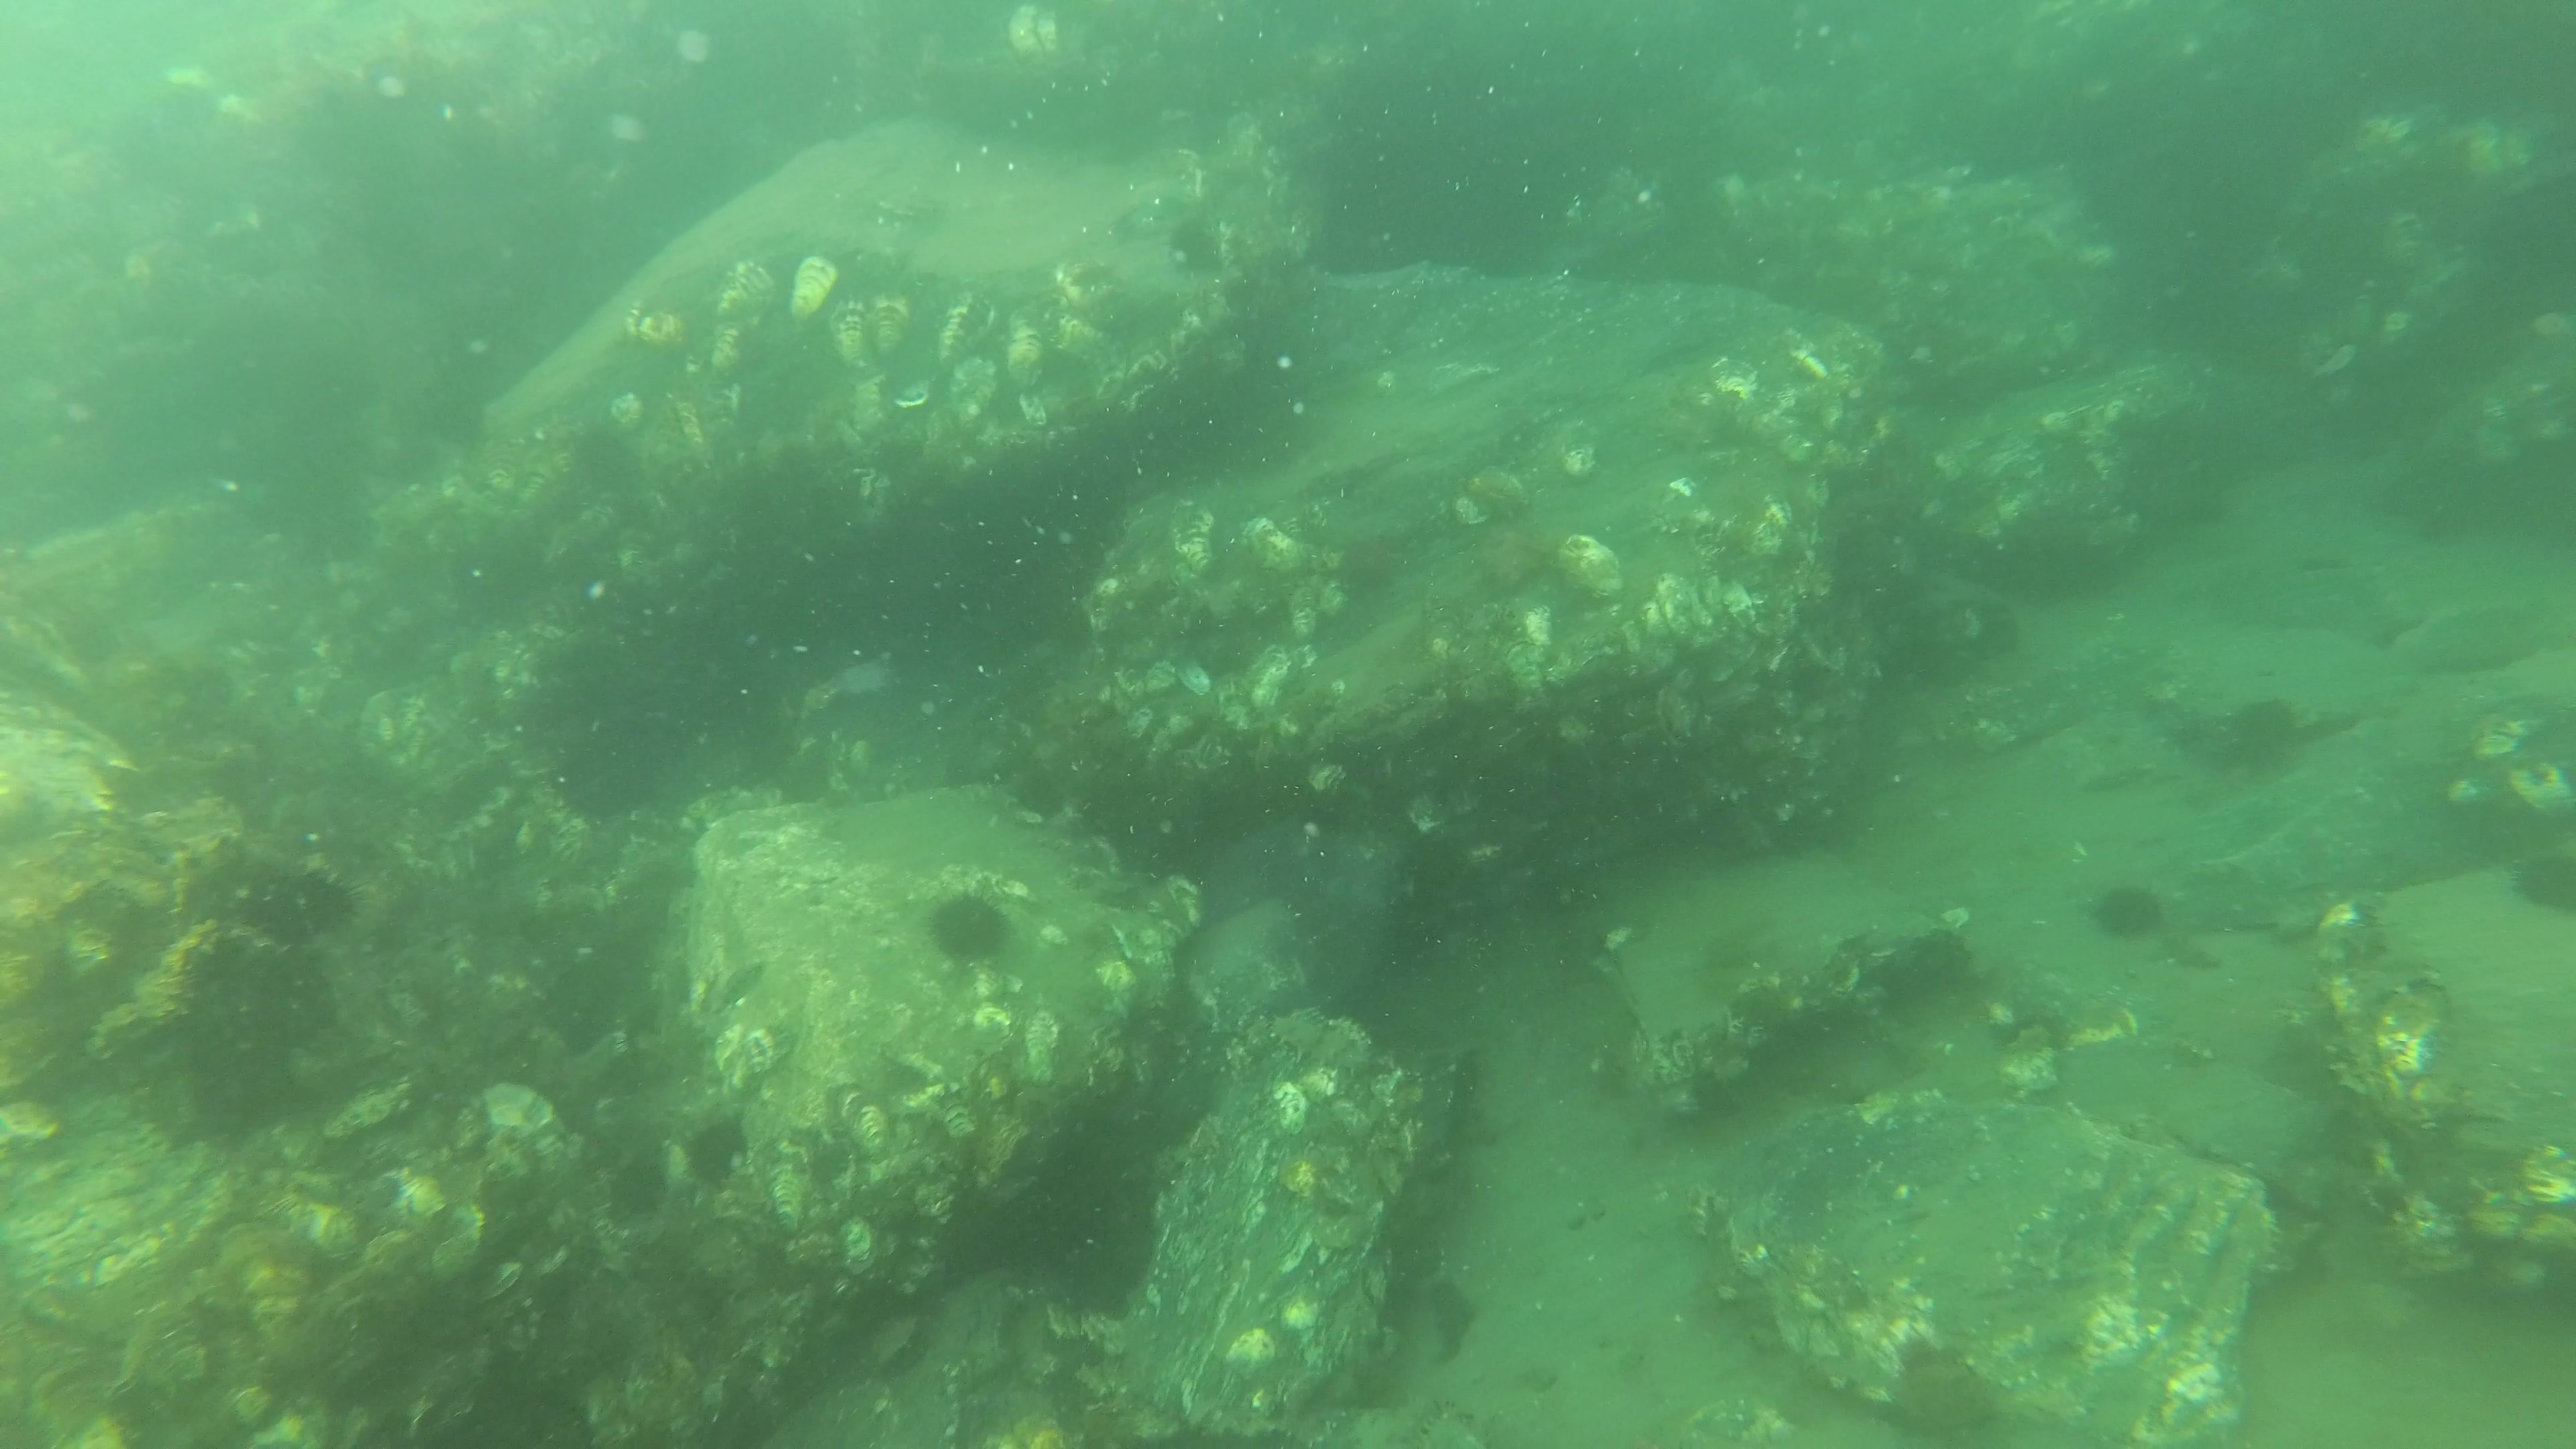echinus: (239, 865, 352, 941), (458, 540, 545, 623), (927, 893, 1016, 966), (2093, 878, 2167, 943), (676, 1123, 750, 1187), (2231, 694, 2296, 764), (2519, 847, 2576, 915)
